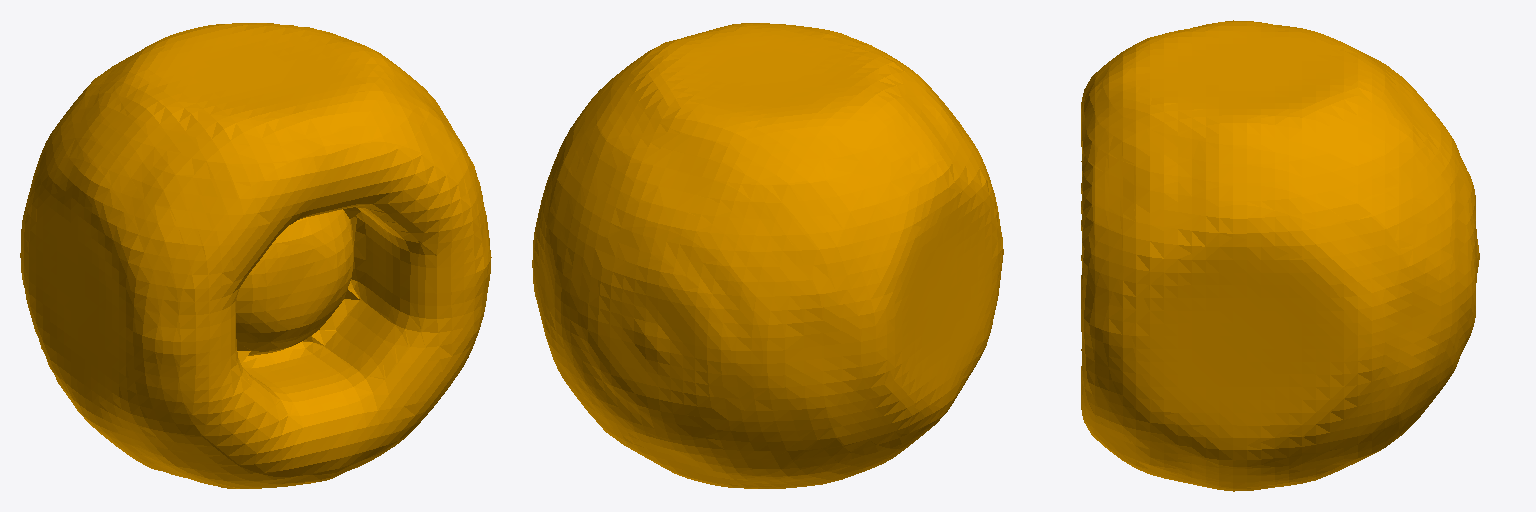
robot.urdf — F07_2:
<?xml version="1.0"?>
<robot name="F07_2">
  <link name="base_link">
    <visual>
      <geometry>
        <mesh filename="../../../../meshes/egad/train/F07_2.obj" />
      </geometry>
    </visual>
  </link>
</robot>

--- Facts derived from the render (not from the file) ---
The picture shows the robot from 3 angles, left to right: view 1: azimuth 30°, elevation 25°; view 2: azimuth 150°, elevation 25°; view 3: azimuth 270°, elevation 25°; orthographic projection.
Model F07_2 with 1 links and 0 joints (none), rooted at base_link, posed every joint at zero.
Links seen in each view (by area): view 1: base_link; view 2: base_link; view 3: base_link.
Link boxes in pixels (left/top/right/bottom): base_link: left=20, top=23, right=491, bottom=488; base_link: left=532, top=23, right=1003, bottom=488; base_link: left=1081, top=20, right=1479, bottom=491.
Size in the robot's own frame: 0.0618 by 0.06 by 0.0618 metres.
1 mesh visuals loaded from 1 distinct referenced files (1 OBJ).